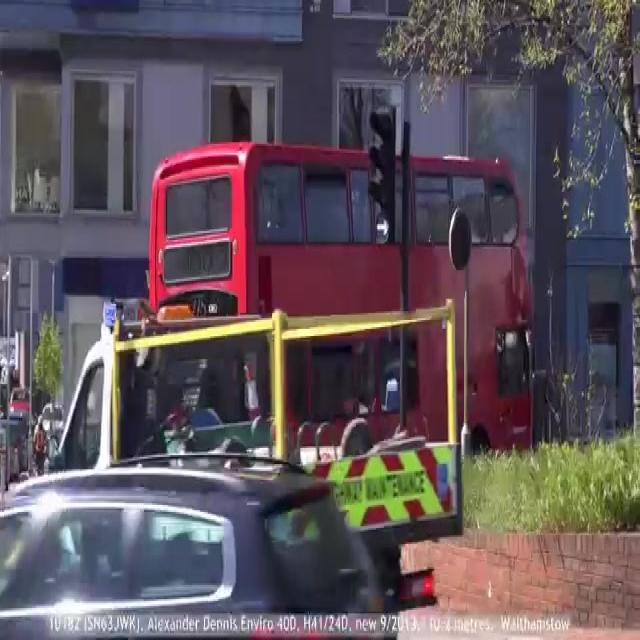Bus: (113, 139, 545, 455)
